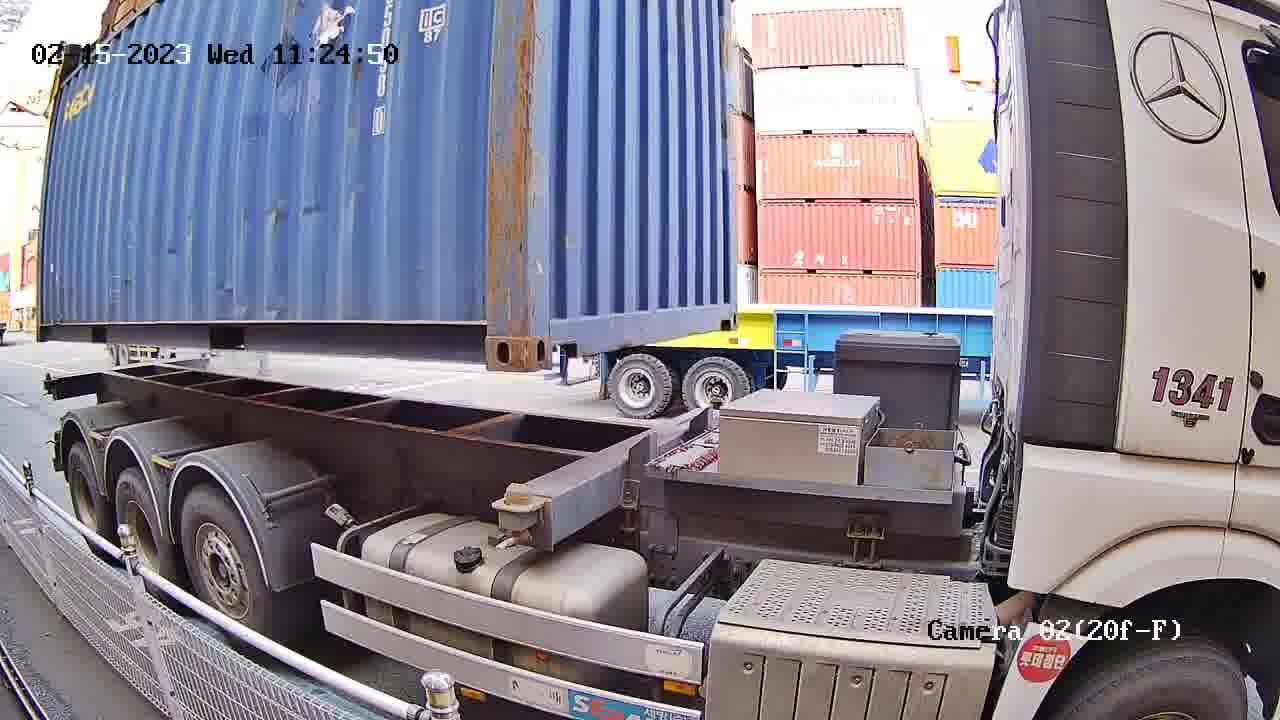Chassis: (523, 402, 721, 545)
Cone: (490, 481, 549, 545)
Hole_L: (530, 295, 601, 371)
Hole_R: (447, 295, 529, 372), (694, 286, 740, 335)
Tire: (1056, 653, 1249, 719), (179, 491, 266, 633), (116, 471, 168, 571), (66, 448, 101, 539)
